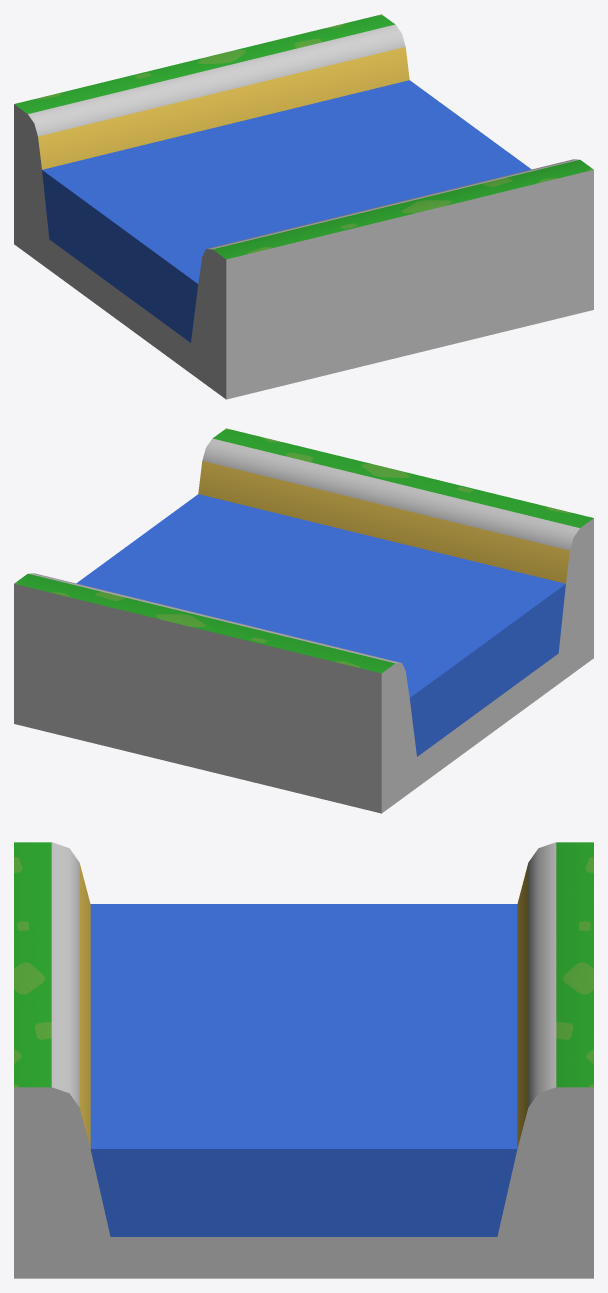
Rendered from RiverTile_1_2.fbx.
The picture shows the model from 3 angles, top to bottom: view 1: azimuth 30°, elevation 25°; view 2: azimuth 150°, elevation 25°; view 3: azimuth 270°, elevation 25°; orthographic projection. The views are drawn at different scales.
Parts seen in each view (by area): view 1: RiverTile_1_2; view 2: RiverTile_1_2; view 3: RiverTile_1_2.
Part boxes in pixels (x1=…): RiverTile_1_2: x1=14, y1=14, x2=593, y2=399; RiverTile_1_2: x1=14, y1=428, x2=593, y2=813; RiverTile_1_2: x1=14, y1=842, x2=593, y2=1278.
Bounding box in the file's own units: 4 × 1.46 × 4.
